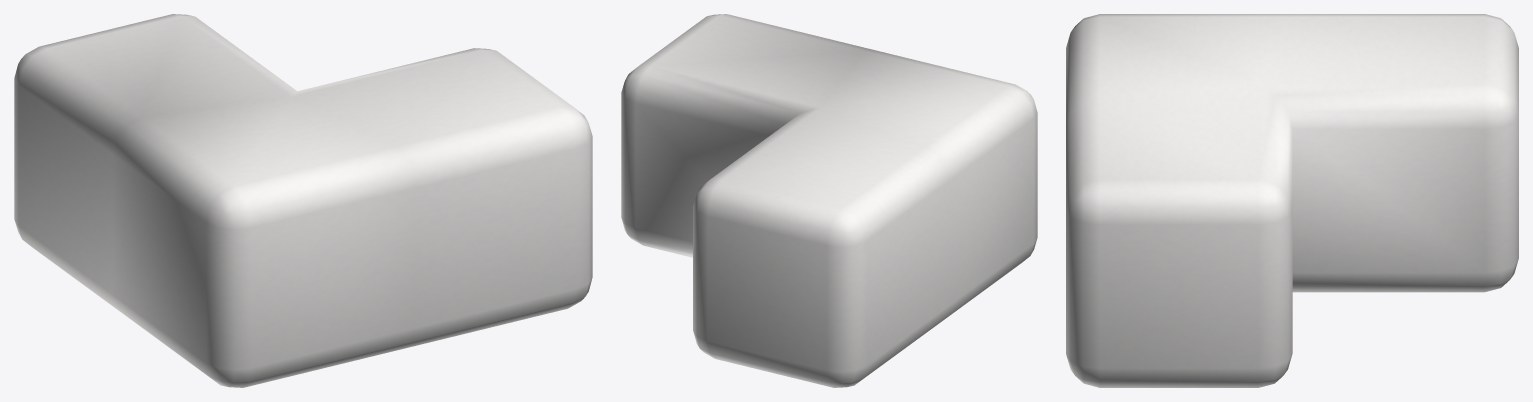
File: __clay_block_02_4.obj
3 views of the same model, side by side, from view 1: azimuth 30°, elevation 25°; view 2: azimuth 150°, elevation 25°; view 3: azimuth 270°, elevation 25° (orthographic). The views are drawn at different scales.
Parts seen in each view (by area): view 1: clay_block_4; view 2: clay_block_4; view 3: clay_block_4.
Part boxes in pixels (box(x1,y1,x2,y2)): clay_block_4: box(14, 14, 592, 387); clay_block_4: box(621, 14, 1037, 387); clay_block_4: box(1066, 14, 1518, 387).
Size of the model in its own units: 2 by 1 by 2.
Materials: 1 (1 with a texture image).
